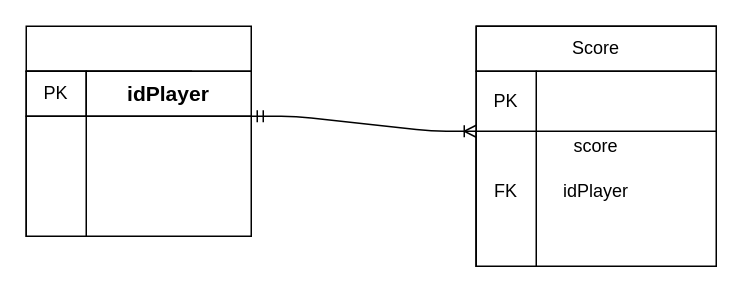
Image size: 743x293. Some labels were removed from this diagram. Each missing label, with the box of its shape:
idScore: (535, 70, 716, 131)
nickname: (85, 115, 251, 236)
player: (25, 25, 251, 71)
